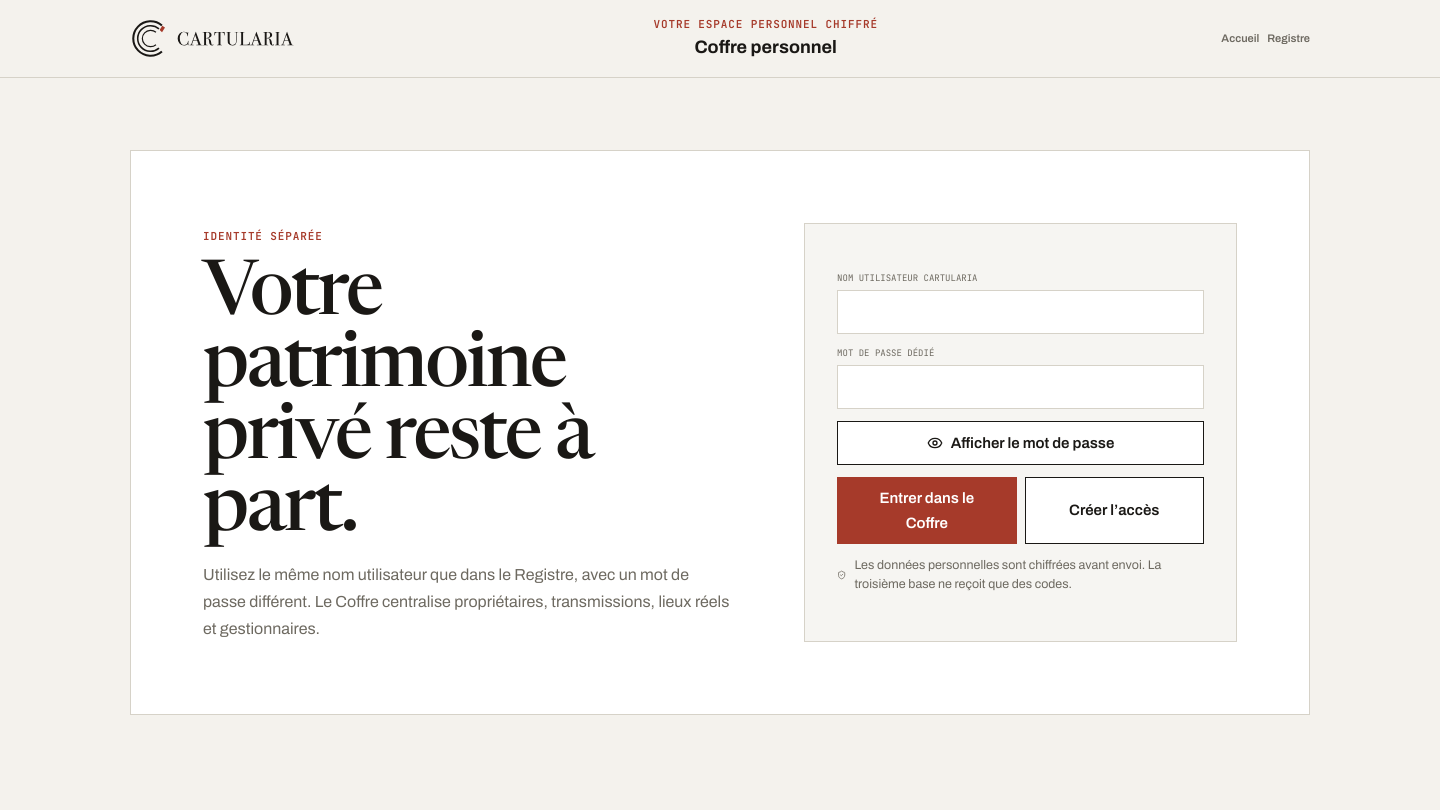
it: conservation des saisies du Coffre › n’écrase pas une saisie tardive et ne verrouille pas avec une ancienne réponse
Type "Atlas" into the field labelled "Nom utilisateur Cartularia" at (1021, 312), box [837, 290, 1204, 334]
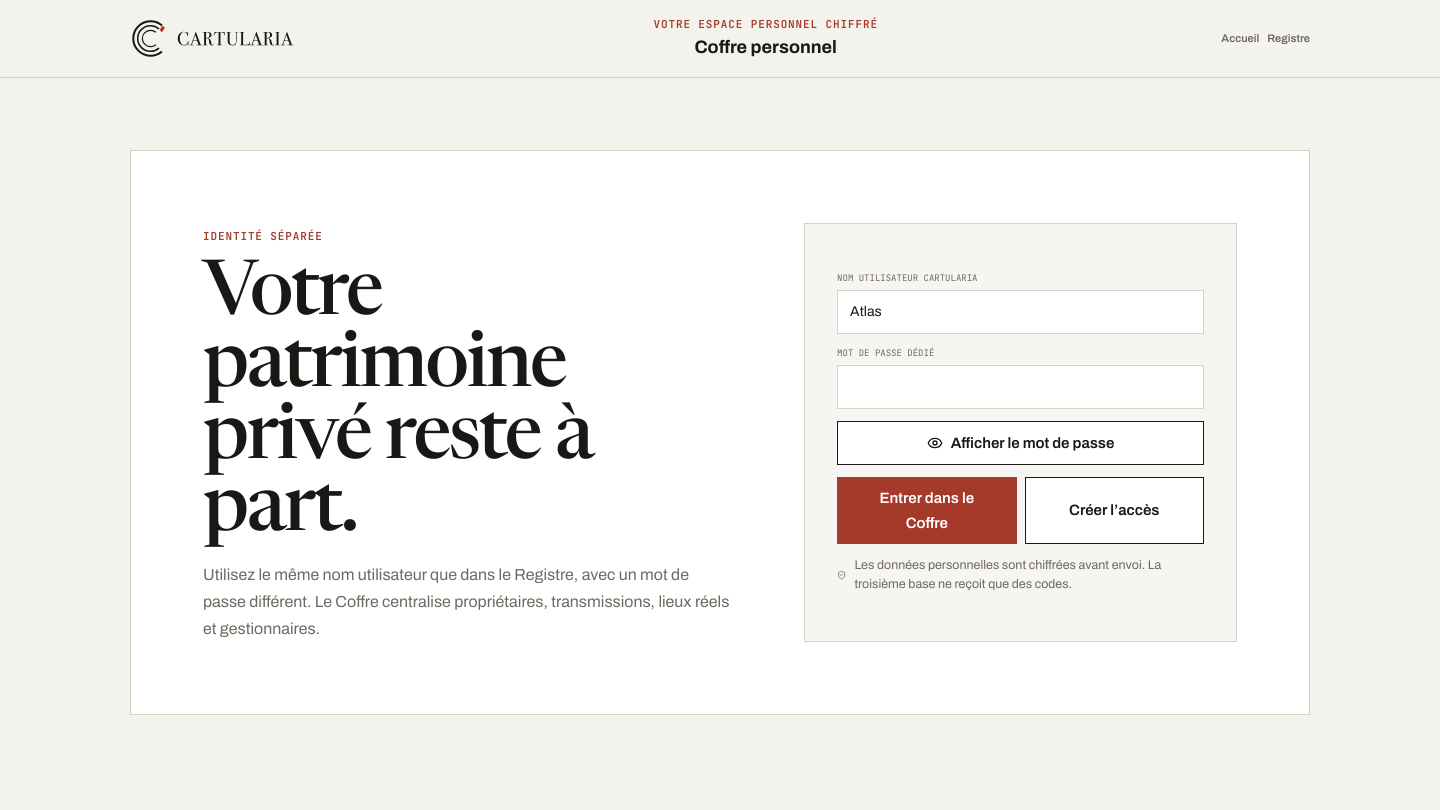
Type "valid-test-password" into the password field labelled "Mot de passe dédié" at (1021, 387), box [837, 365, 1204, 409]
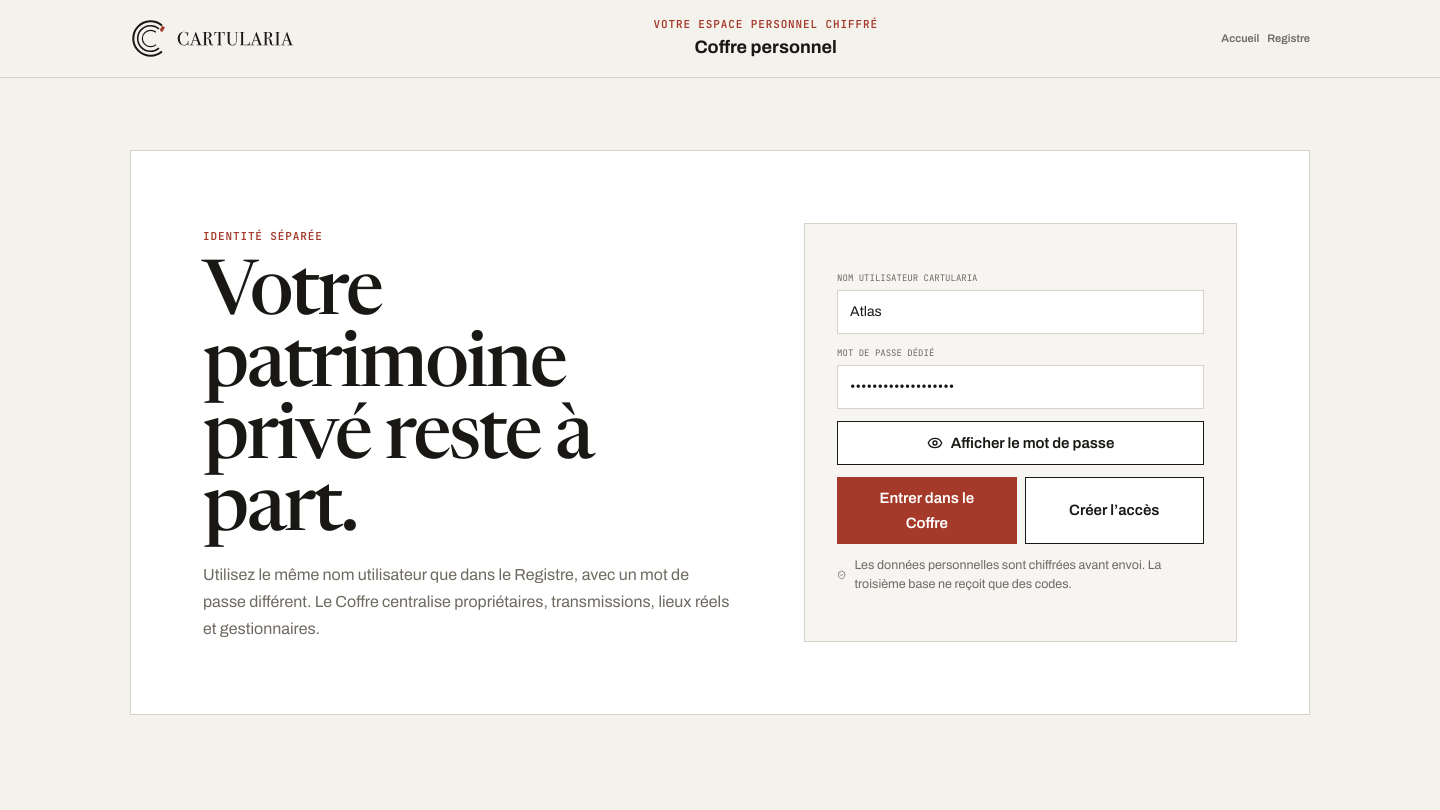
Click the button "Entrer dans le Coffre" at (927, 511), box [837, 477, 1017, 544]
(page scrolled)
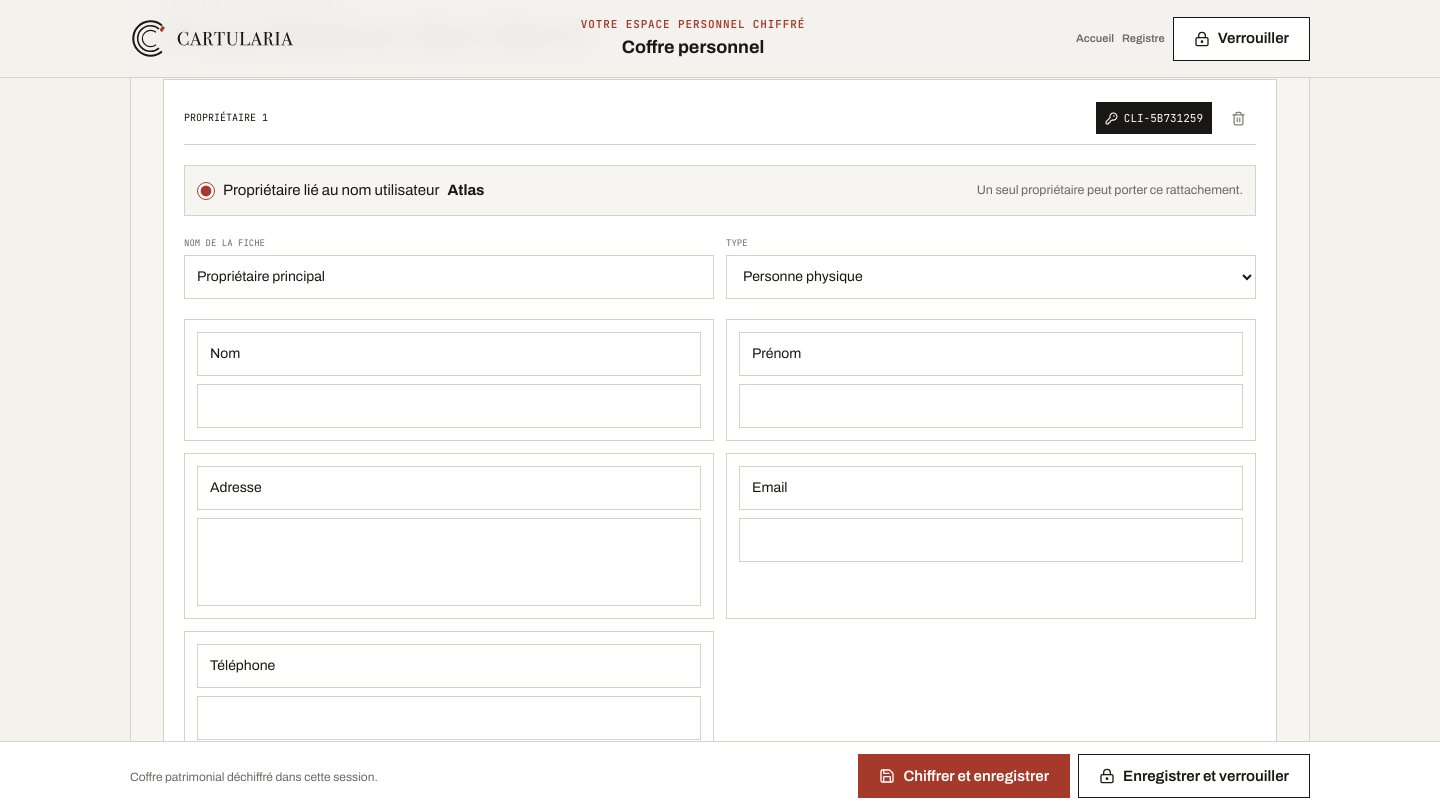
expect the heading "Propriétaires des biens" is shown: met, box [163, 12, 588, 59]
Type "Avant sauvegarde" into the field named "Nom" at (449, 406), box [197, 384, 701, 428]
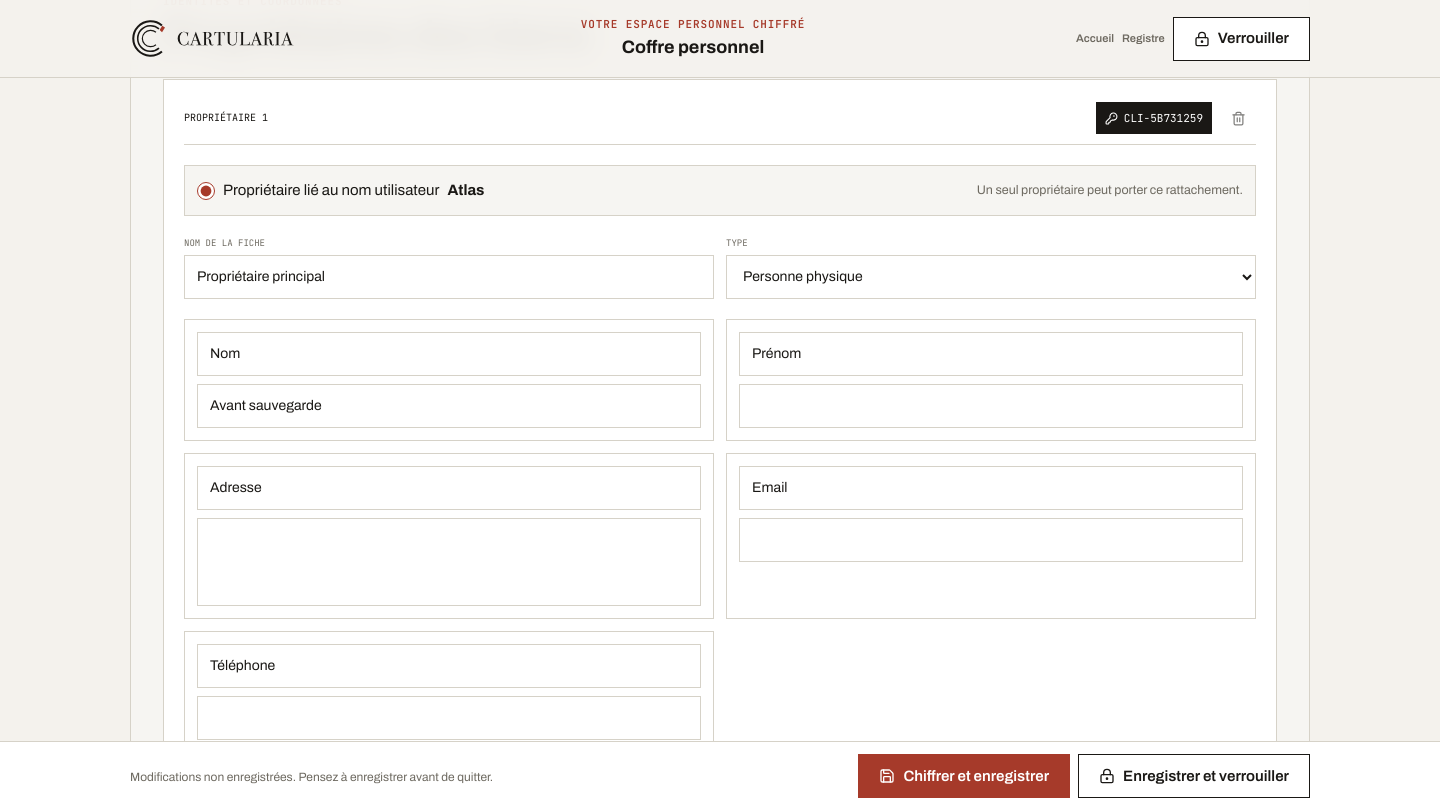
Click the button "Enregistrer et verrouiller" at (1194, 776), box [1078, 754, 1310, 798]
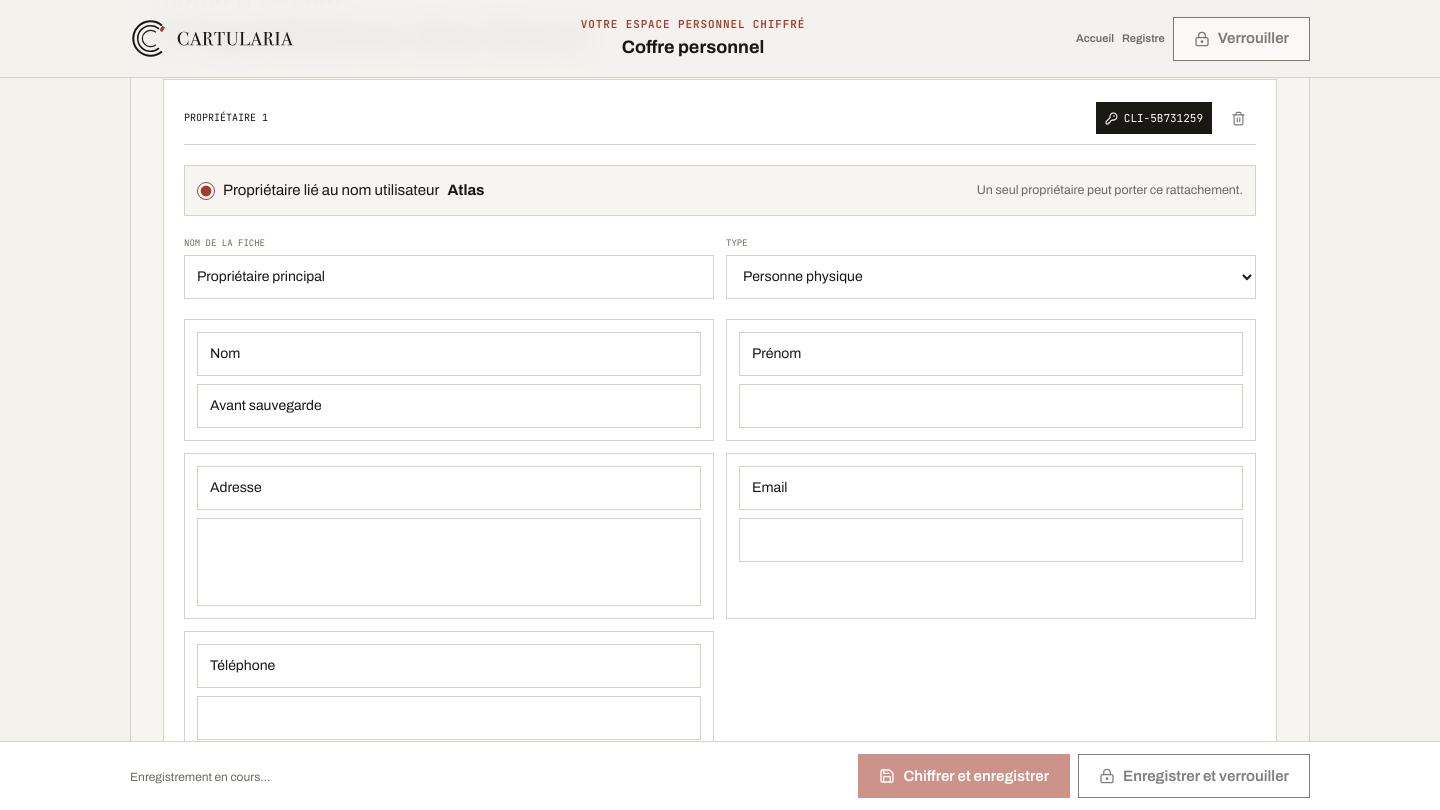
Replace the text in the field named "Nom" with "Après début sauvegarde" at (449, 406), box [197, 384, 701, 428]
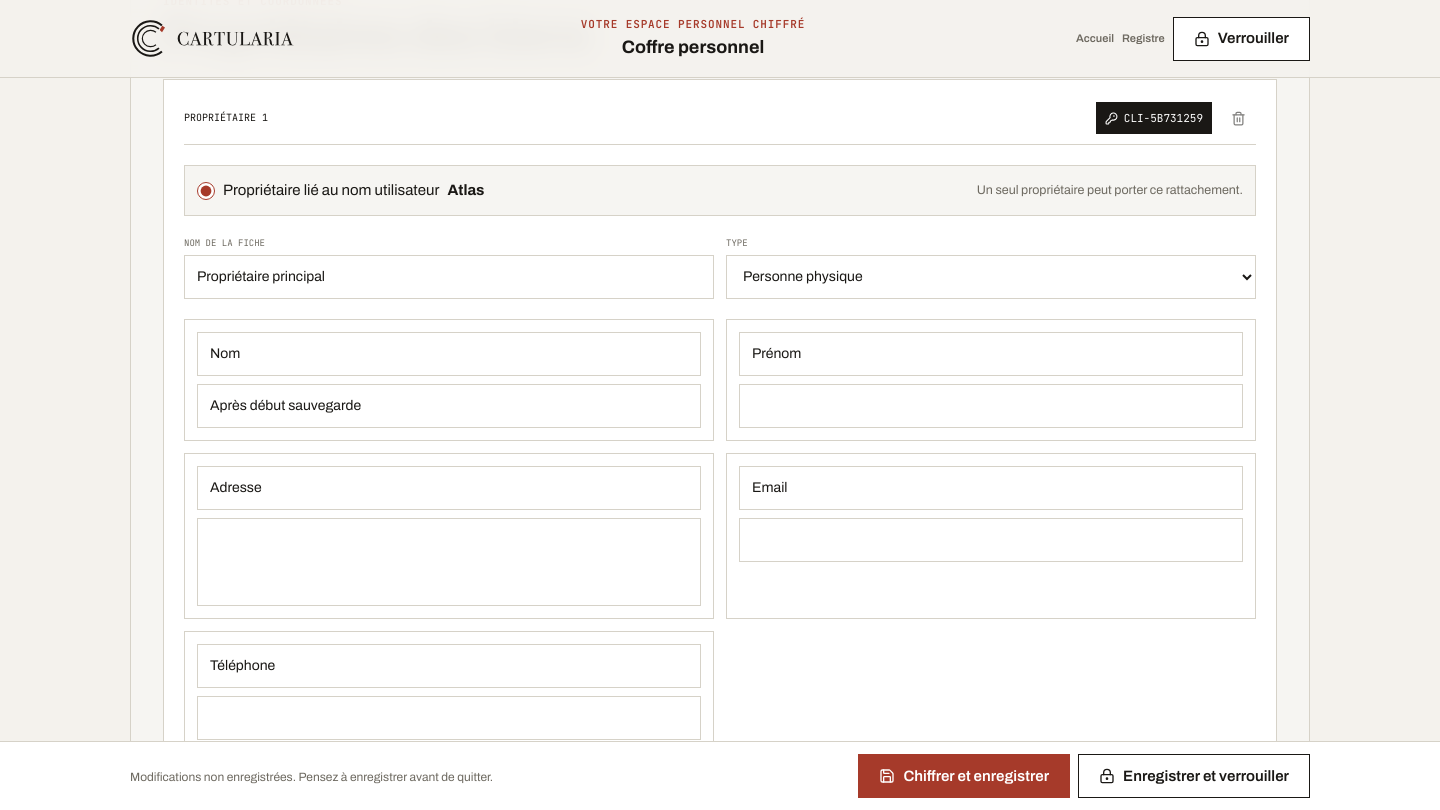
expect the message shows "Modifications non enregistrées": met, box [130, 770, 493, 784]
